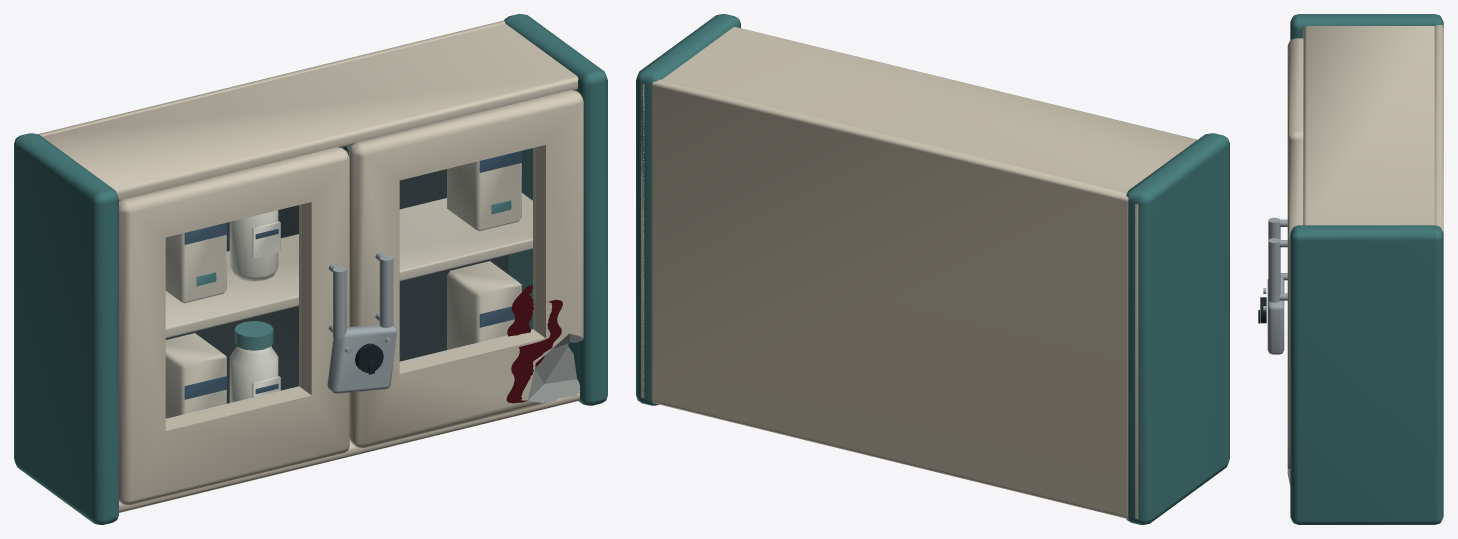
Rendered from pharmacy_locked_cupboard.glb.
3 renders of one model, left to right at view 1: azimuth 30°, elevation 25°; view 2: azimuth 150°, elevation 25°; view 3: azimuth 270°, elevation 25°, orthographic. The views are drawn at different scales.
Parts seen in each view (by area): view 1: Static_Shell_Mesh, Left_Locked_Door_Mesh, Right_Locked_Door_Mesh; view 2: Static_Shell_Mesh; view 3: Static_Shell_Mesh, Right_Locked_Door_Mesh, Left_Locked_Door_Mesh.
Boxes of the visible parts, box(x1,y1,x2,y2) form: Static_Shell_Mesh: box(14, 14, 607, 524); Left_Locked_Door_Mesh: box(119, 147, 349, 505); Right_Locked_Door_Mesh: box(349, 90, 583, 447); Static_Shell_Mesh: box(636, 14, 1229, 524); Static_Shell_Mesh: box(1258, 14, 1443, 524); Right_Locked_Door_Mesh: box(1268, 139, 1303, 484); Left_Locked_Door_Mesh: box(1268, 38, 1303, 280).
Bounding box in the file's own units: 1.1 × 0.68 × 0.3865.
